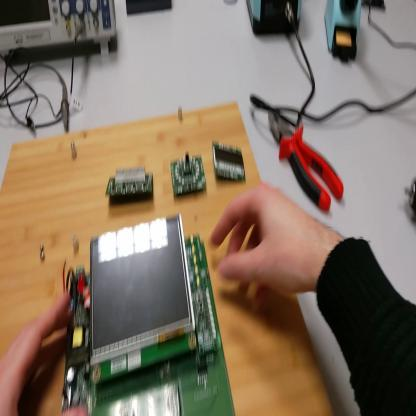electric screwdriver: (408, 179, 416, 223)
hand: (213, 183, 325, 301), (1, 290, 77, 416)
low voltage board: (63, 214, 238, 416)
oscilloscope: (2, 2, 119, 61)
oscilloscope probe tip: (61, 76, 71, 136)
pliers: (267, 107, 343, 213)
welder base: (326, 1, 363, 64)
welder station: (248, 1, 302, 40)
working area: (2, 100, 335, 415)
